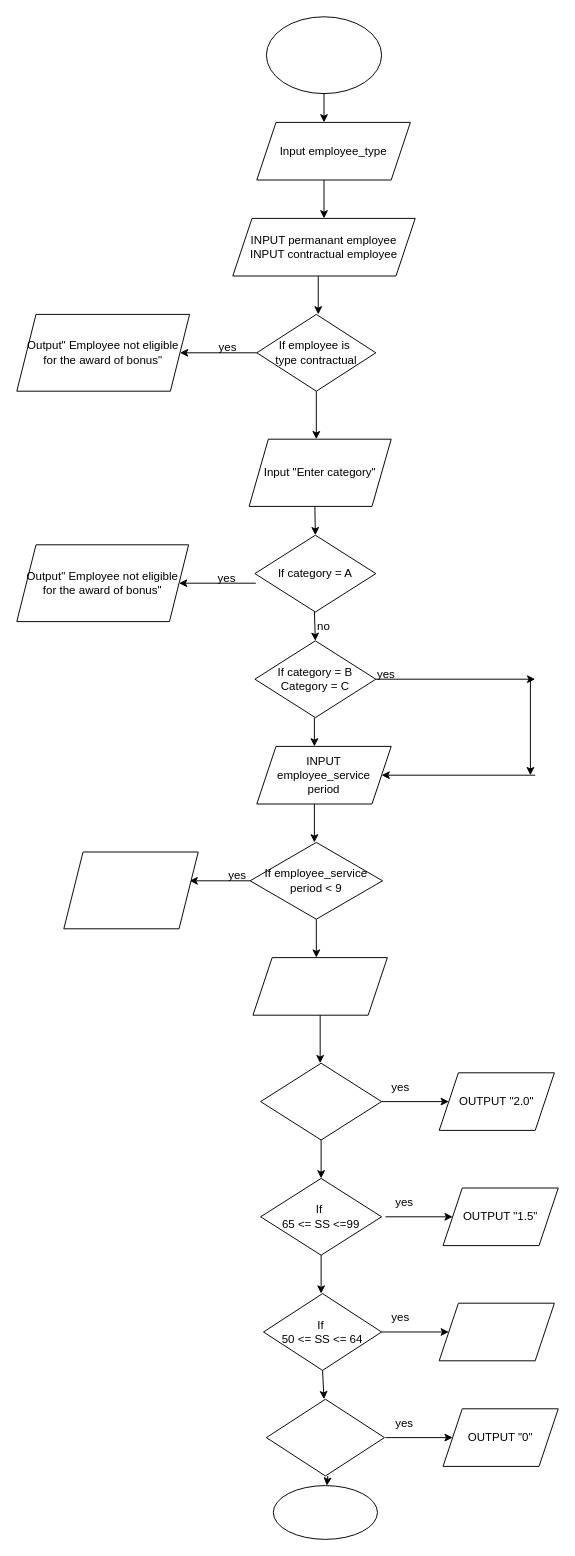
This 575x1556 diagram has some shape labels left out. The shapes that lost their labels are listed below. From the top down, each one's centre as x and y in pixels, then its label:
point 323,55: Start
point 130,890: OUTPUT"Employee not eligible for the award of bonus"
point 319,986: INPUT saled_score
point 321,1101: If SS <= 80
point 496,1331: OUTPUT "1.0"
point 324,1437: If SS <= 50
point 324,1512: STOP
